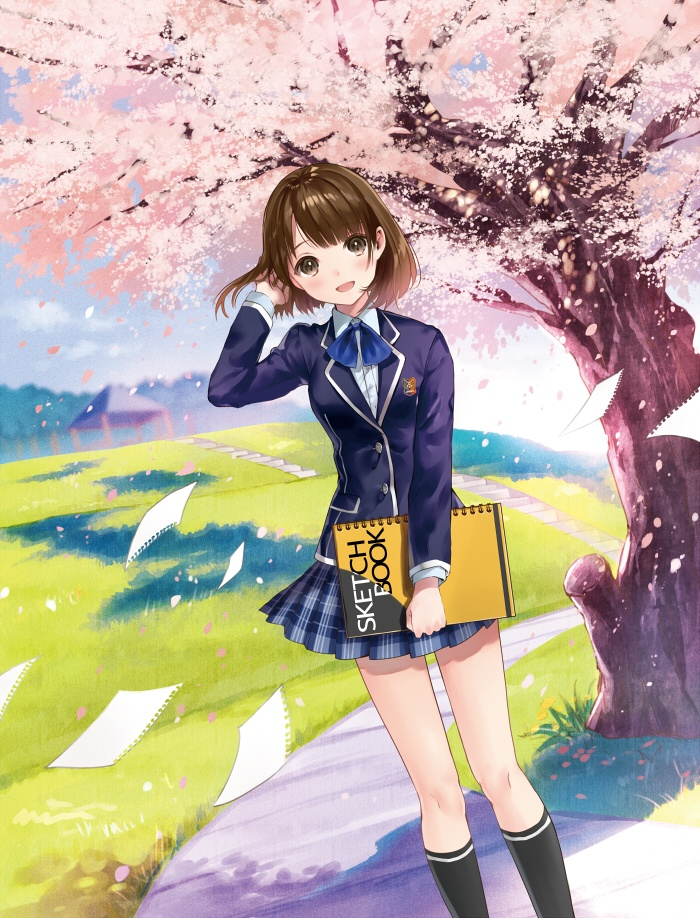纸片人正脸: (238, 157, 411, 310)
